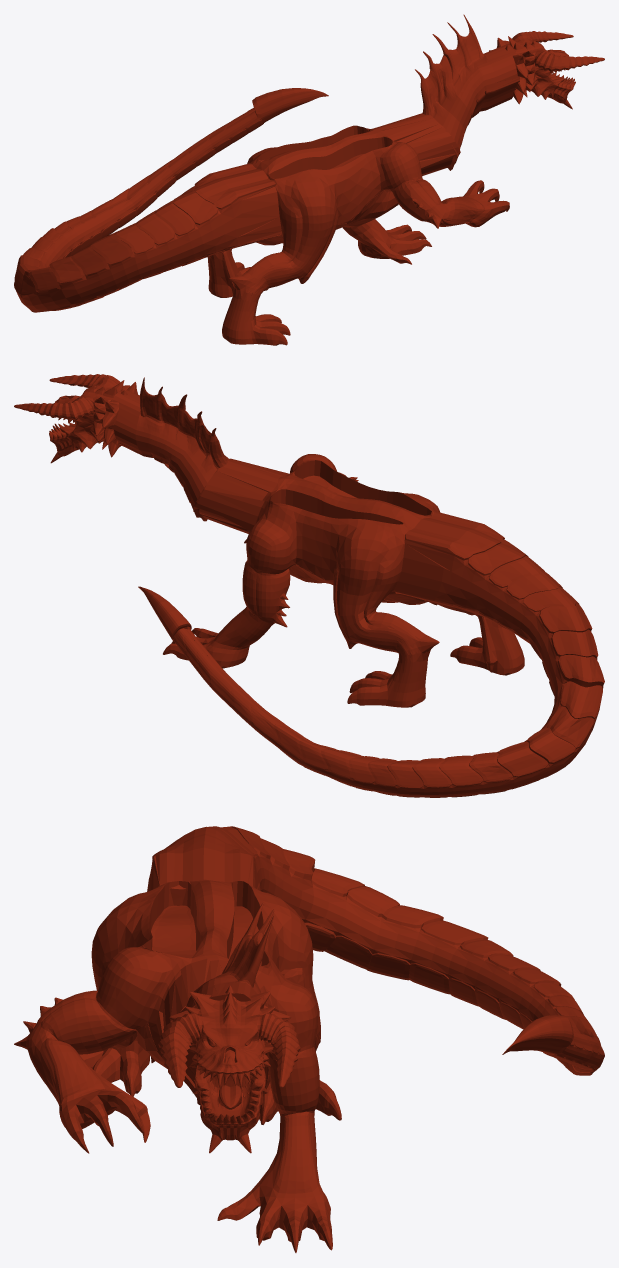
The model's file is RedGuardDrake.fbx.
3 renders of one model, top to bottom at view 1: azimuth 30°, elevation 25°; view 2: azimuth 150°, elevation 25°; view 3: azimuth 270°, elevation 25°, orthographic. The views are drawn at different scales.
Parts seen in each view (by area): view 1: Black Dragon for Shapeways Updated; view 2: Black Dragon for Shapeways Updated; view 3: Black Dragon for Shapeways Updated.
Boxes of the visible parts, x1,y1,x2,y2 form: Black Dragon for Shapeways Updated: (14, 14, 604, 345); Black Dragon for Shapeways Updated: (14, 374, 604, 797); Black Dragon for Shapeways Updated: (14, 826, 604, 1252).
Size of the model in its own units: 19032 by 7945 by 11394.
